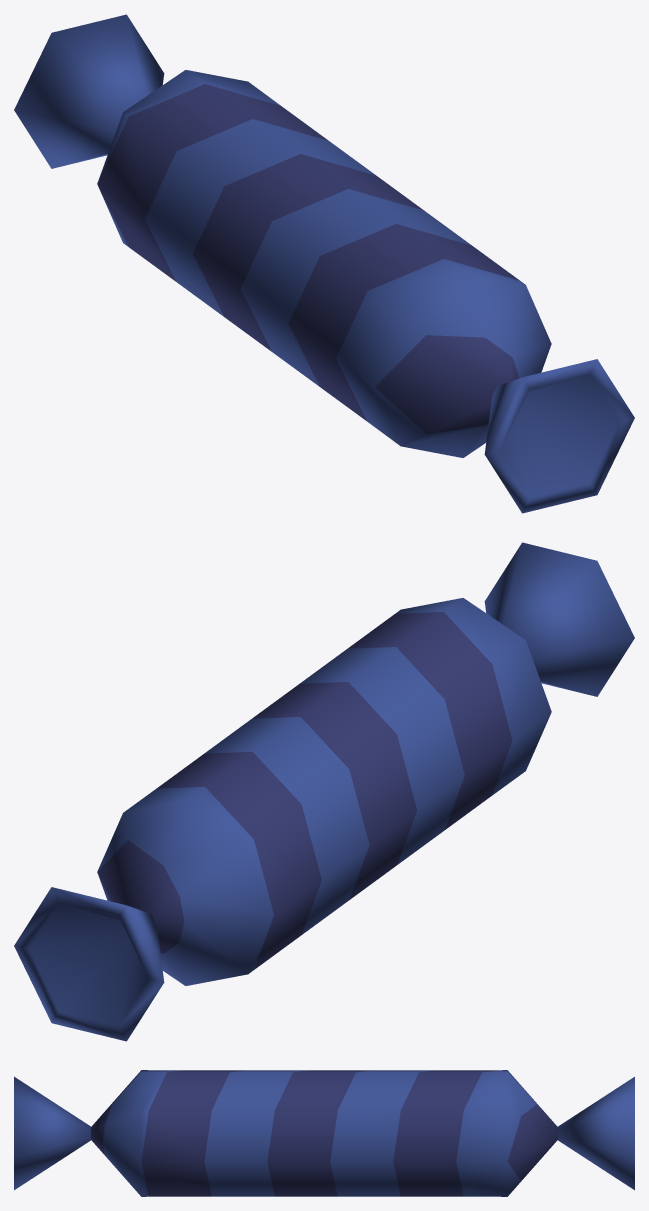
Rendered from Candy_02.fbx.
3 renders of one model, top to bottom at view 1: azimuth 30°, elevation 25°; view 2: azimuth 150°, elevation 25°; view 3: azimuth 270°, elevation 25°, orthographic. The views are drawn at different scales.
Parts seen in each view (by area): view 1: Candy_02; view 2: Candy_02; view 3: Candy_02.
Boxes of the visible parts, left/top/right/bottom form: Candy_02: left=14, top=14, right=634, bottom=513; Candy_02: left=14, top=542, right=634, bottom=1041; Candy_02: left=14, top=1070, right=634, bottom=1196.
Size of the model in its own units: 0.0358 by 0.0358 by 0.165.
